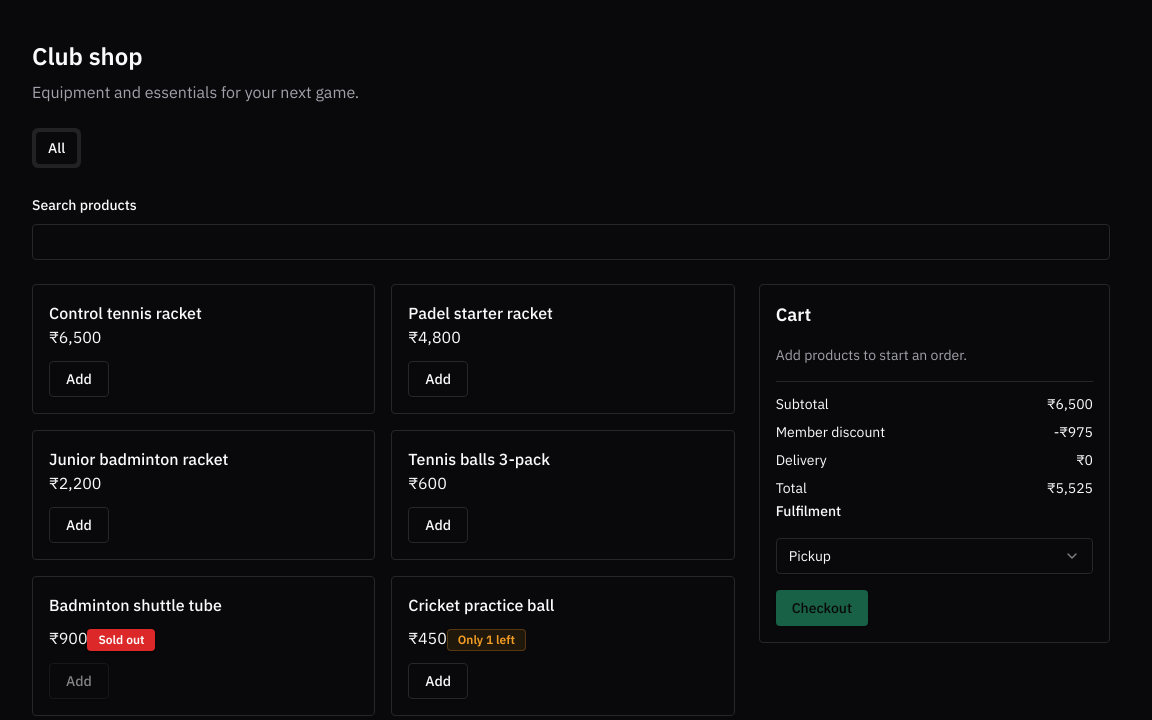
Test: shop browser › checks out by UPI by default: the order is placed with payNow and the cart clears
Click the button with aria-label "Add Control tennis racket" at (79, 379), box top-left (49, 361), bottom-right (109, 397)
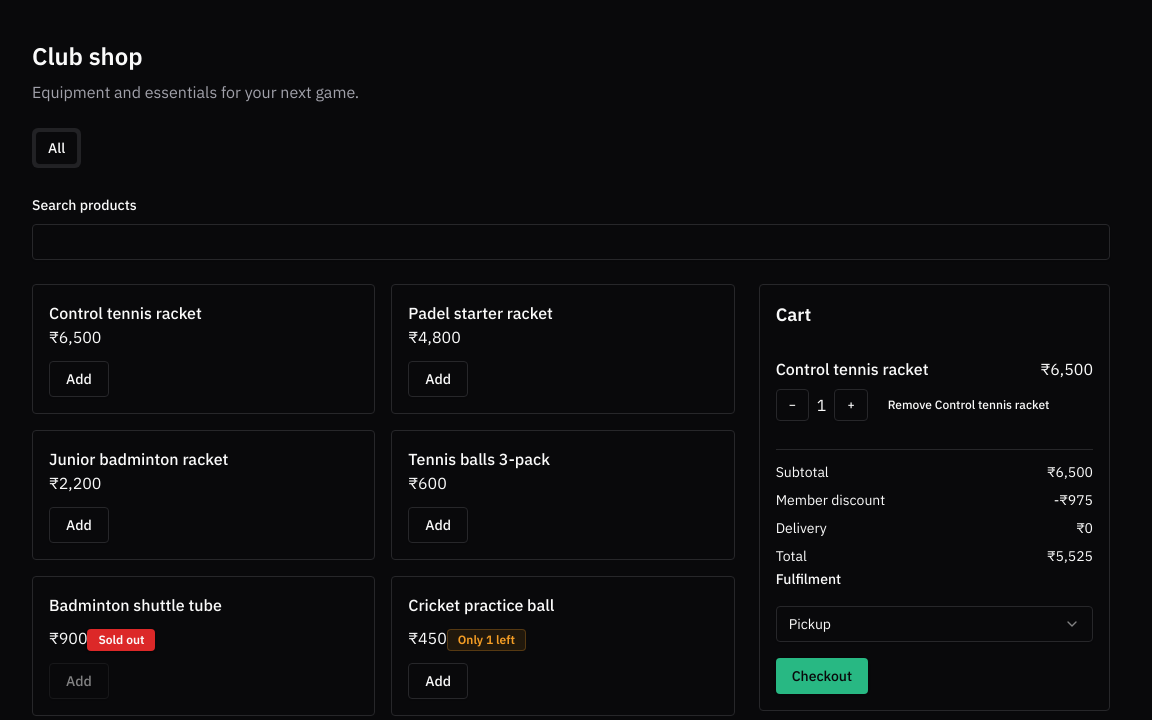
Click the button "Checkout" at (822, 676), box top-left (776, 658), bottom-right (868, 694)
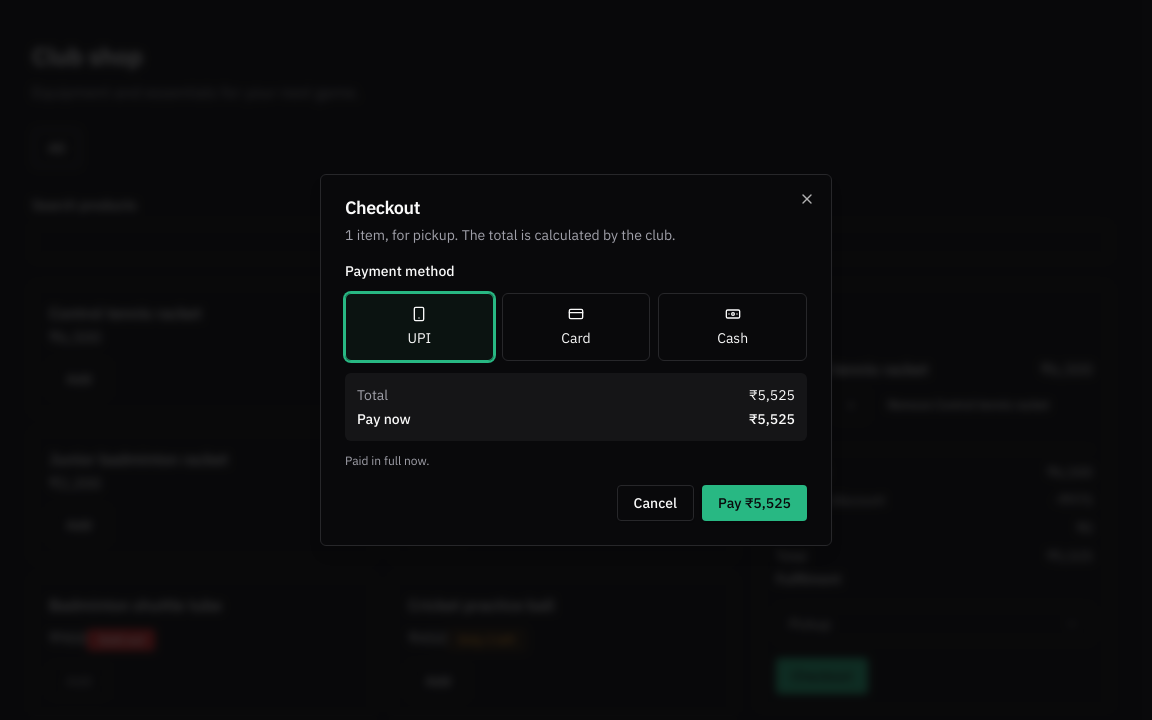
Check: the radio button labelled "UPI" is checked, box top-left (345, 293), bottom-right (494, 361)
Click the button "Pay ₹5,525" at (754, 503), box top-left (702, 485), bottom-right (807, 521)
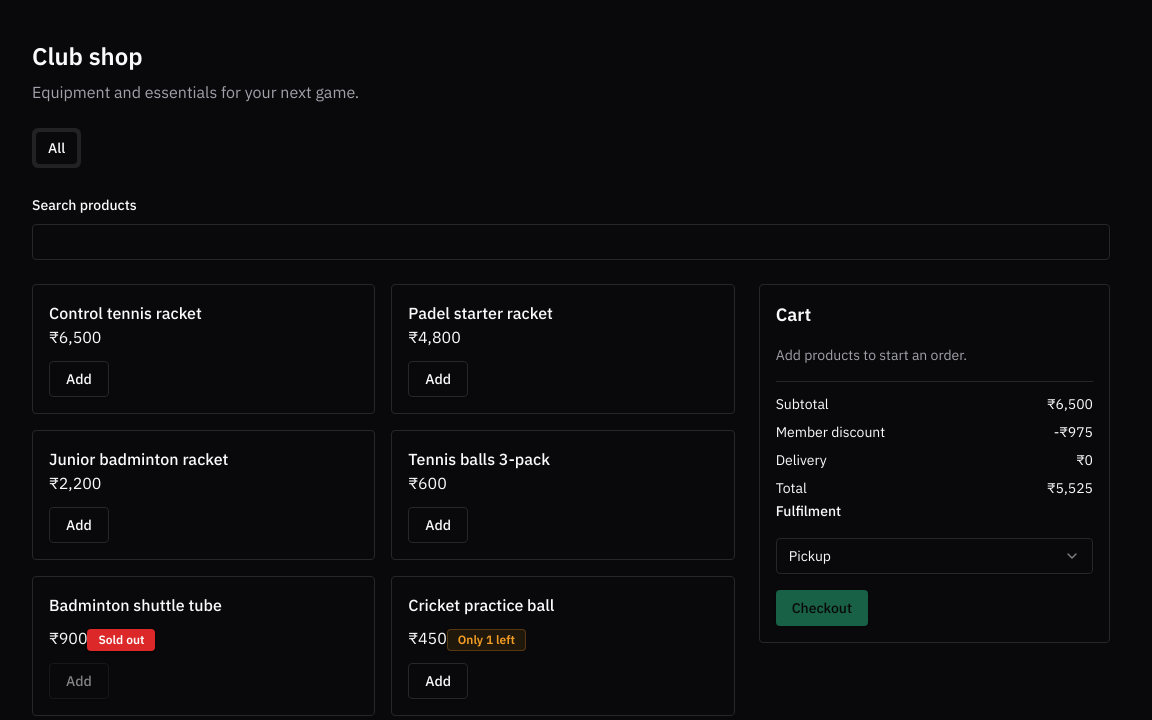
Check: the text "Add products to start an order." is shown, box top-left (776, 346), bottom-right (967, 364)
